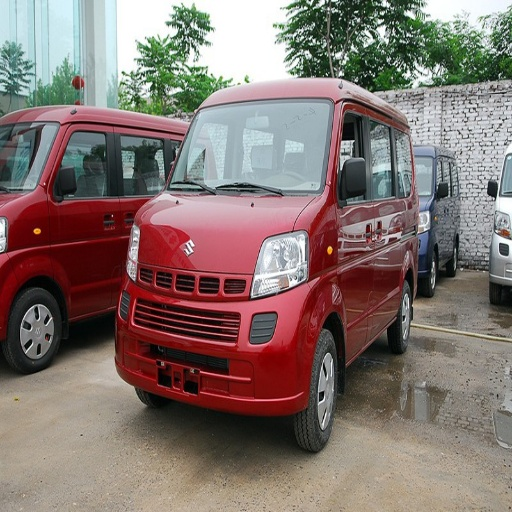back_glass: (2, 124, 36, 175)
front_bumper: (126, 266, 318, 412)
front_glass: (167, 99, 333, 192)
front_left_door: (336, 99, 389, 348)
